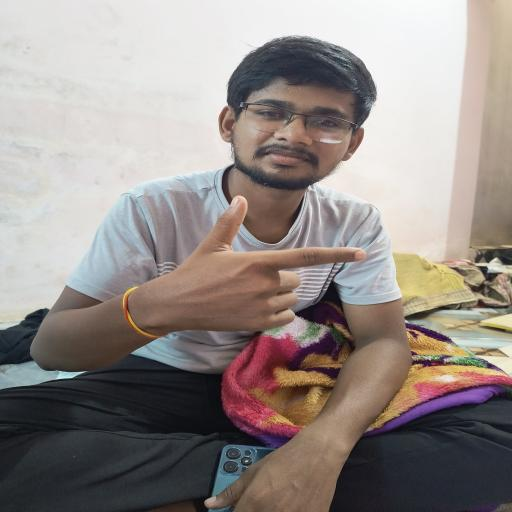OK: (113, 192, 389, 344)
